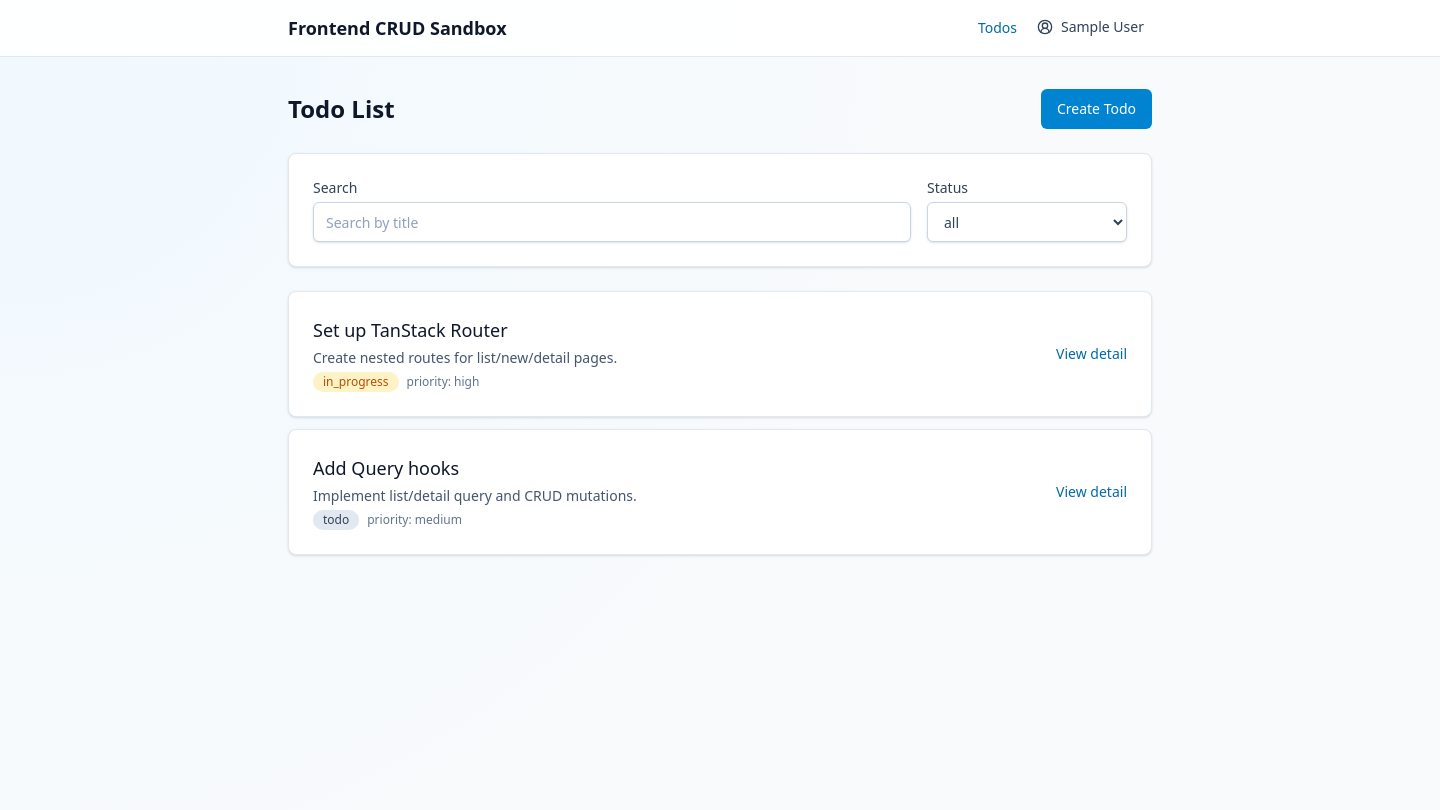
Test: todo app integration › shows account in header and navigates to account edit
Expected: the text "Sample User" is shown, [1037,16,1144,36]
Click the heading "Sample User": (1090, 28) [1029,12,1152,44]
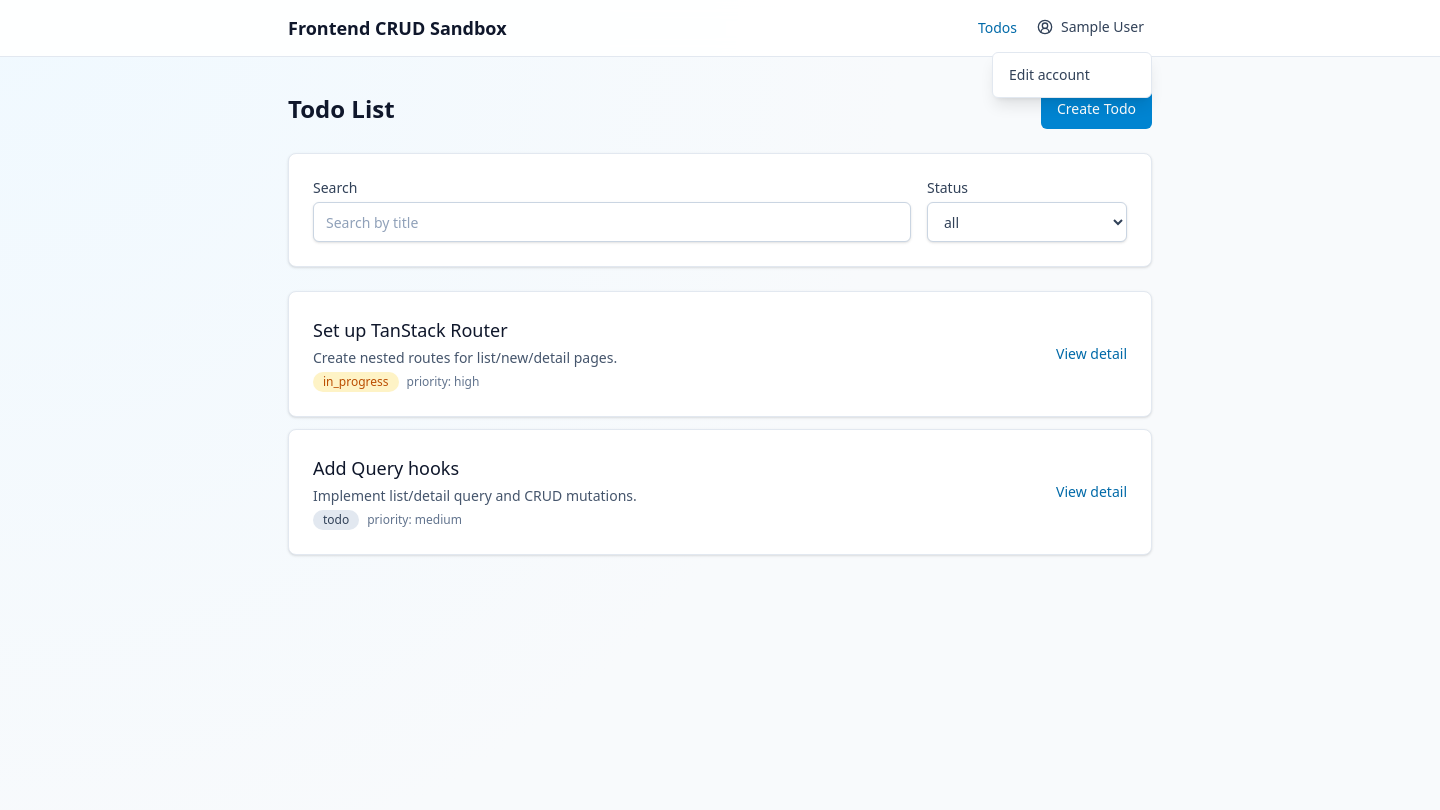
Click the link "Edit account": (1049, 74) [1009,64,1090,84]
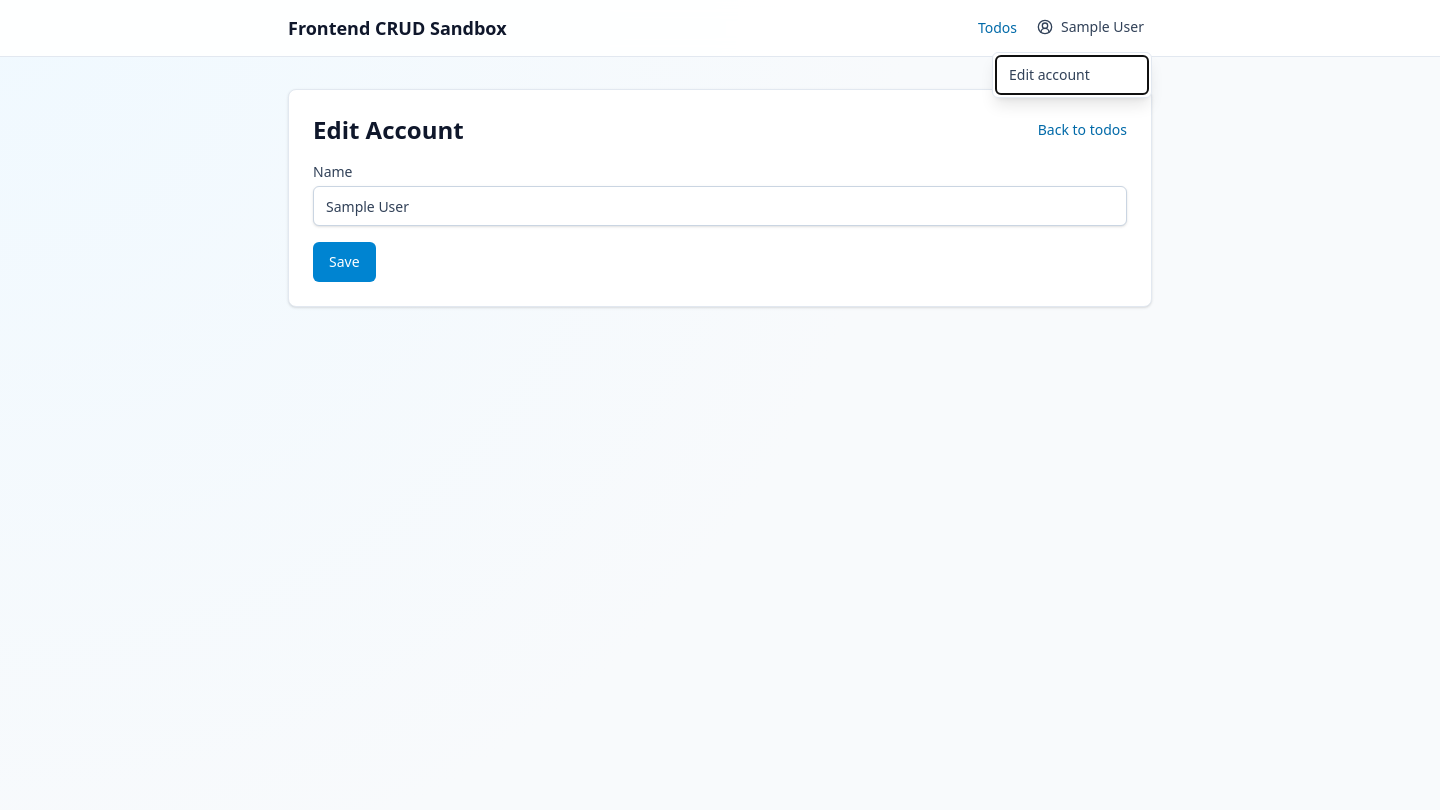
Now the heading "Edit Account" is shown, box [313,114,464,146]
